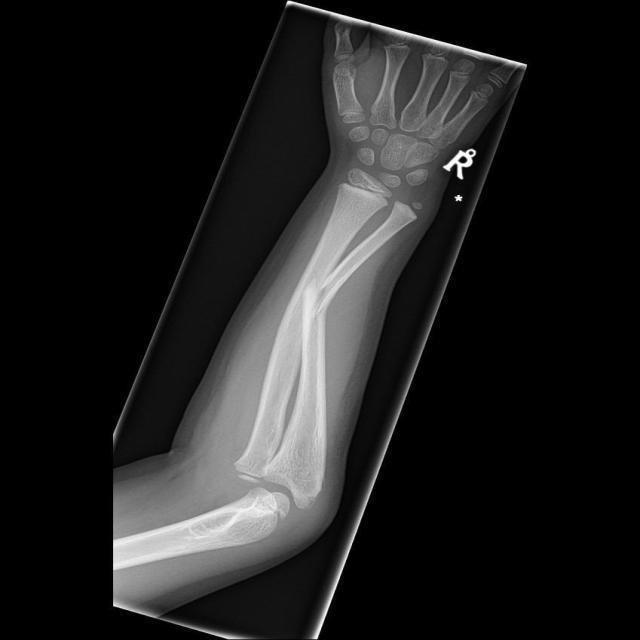bone: (257, 254, 373, 330)
